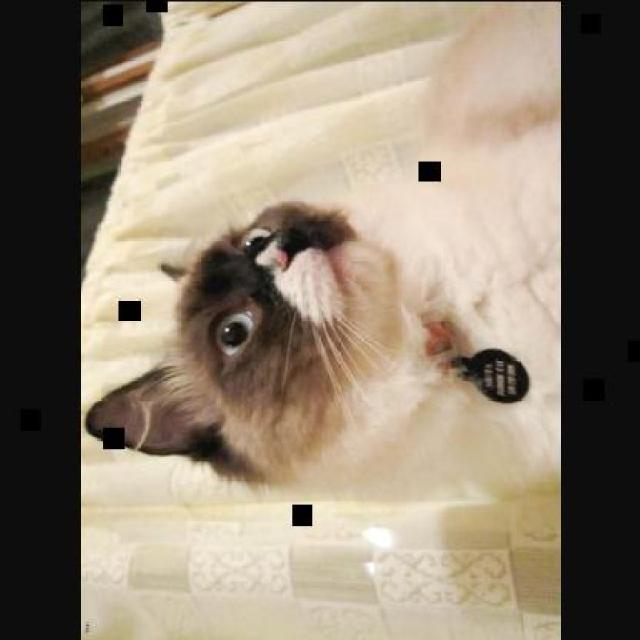unauthorized: (85, 197, 557, 501)
